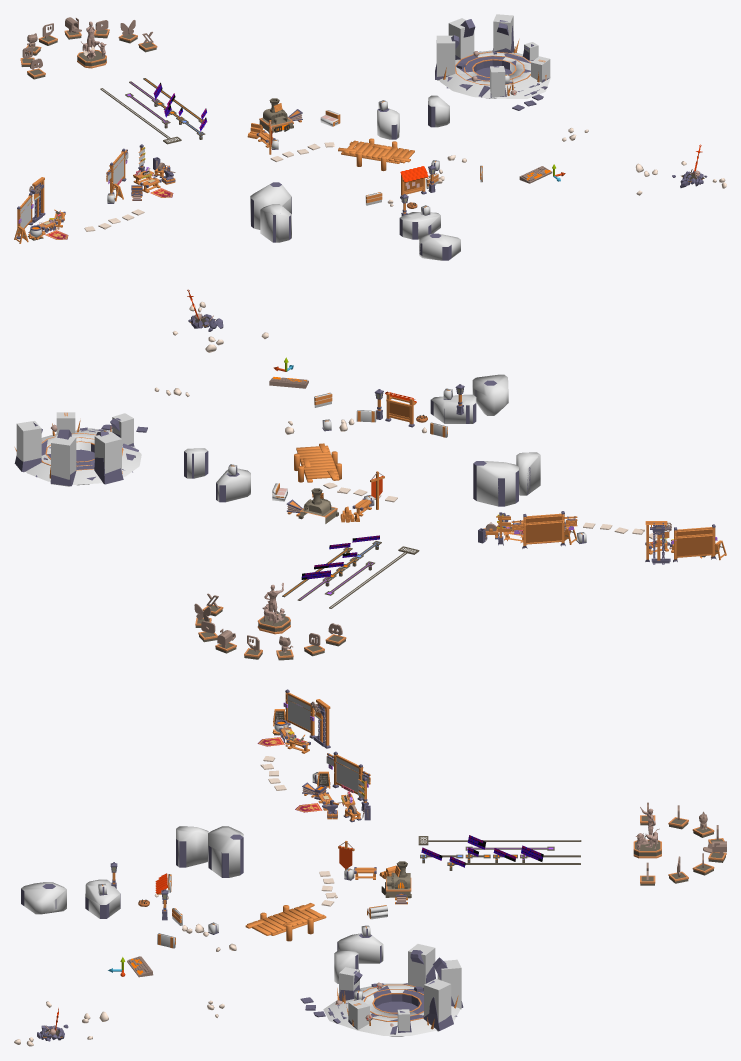
File: scenery.glb
The picture shows the model from 3 angles, top to bottom: view 1: azimuth 30°, elevation 25°; view 2: azimuth 150°, elevation 25°; view 3: azimuth 270°, elevation 25°; orthographic projection. The views are drawn at different scales.
Visible parts, largest first — view 1: trimesh.001, bridge.001, Cube.159, Cylinder.021, hull.016, hull.015, hull.011, hull.012, Cube.165, Cube.172, Cube.164, Cube.146 (+6 smaller); view 2: trimesh.001, hull.015, bridge.001, Cube.159, Cube.172, hull.011, Cube.164, Cube.146, hull.012, hull.016, Cube.165, hull.014 (+2 smaller); view 3: trimesh.001, bridge.001, hull.015, Cube.159, Cube.172, hull.011, Cylinder.021, hull.016, hull.014, Cube.146, hull.012, Cube.165 (+2 smaller).
Boxes of the visible parts, x1,y1,x2,y2 form: trimesh.001: (439,50,550,98); bridge.001: (338,138,414,171); Cube.159: (20,29,157,79); Cylinder.021: (456,53,547,95); hull.016: (260,204,291,242); hull.015: (250,183,291,229); hull.011: (419,234,460,260); hull.012: (400,212,440,239); Cube.165: (436,35,455,80); Cube.172: (435,19,533,97); Cube.164: (448,18,474,58); Cube.146: (493,14,513,51); trimesh.001: (26,428,141,485); hull.015: (476,461,518,506); bridge.001: (294,443,341,482); Cube.159: (195,604,346,660); Cube.172: (14,418,134,486); hull.011: (472,374,508,415); Cube.164: (51,435,76,486); Cube.146: (16,421,41,472); hull.012: (431,394,476,423); hull.016: (516,452,540,495); Cube.165: (94,432,121,484); hull.014: (216,468,250,501); trimesh.001: (323,983,460,1036); bridge.001: (245,903,326,941); hull.015: (208,826,243,877); Cube.159: (640,815,726,885); Cube.172: (339,950,463,1032); hull.011: (21,882,66,914); Cylinder.021: (328,985,423,1023); hull.016: (176,826,209,867); hull.014: (337,933,383,963); Cube.146: (424,978,451,1031); hull.012: (85,879,120,918); Cube.165: (408,944,435,987).
Bounding box in the file's own units: 83.84 × 8.2 × 78.34.
36 materials, 10 textured.
